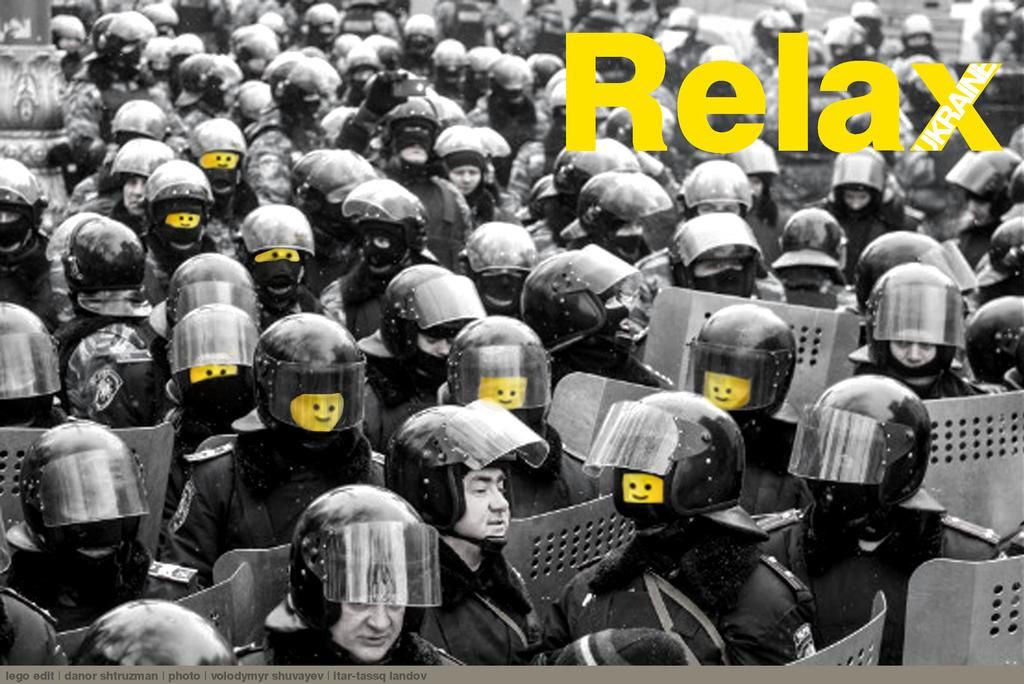helmet: (285, 484, 443, 637), (383, 399, 550, 536), (581, 390, 746, 524), (787, 374, 932, 512), (18, 422, 150, 566), (252, 312, 366, 445), (520, 244, 642, 359), (683, 304, 797, 420), (380, 264, 488, 377), (446, 315, 552, 426), (853, 230, 980, 322), (865, 262, 965, 376), (169, 304, 264, 403), (45, 212, 146, 295), (290, 149, 381, 241), (669, 212, 762, 302), (576, 170, 674, 244), (0, 302, 60, 417), (341, 179, 429, 254), (458, 221, 538, 302), (944, 146, 1023, 221), (242, 204, 315, 282), (964, 295, 1024, 389), (553, 138, 641, 200), (144, 160, 215, 236), (684, 160, 752, 238), (109, 138, 175, 214), (782, 207, 847, 270), (830, 146, 888, 216), (190, 118, 246, 188), (270, 57, 342, 110), (0, 158, 43, 242), (550, 80, 592, 133), (491, 56, 534, 99), (824, 18, 866, 62), (404, 14, 437, 58), (901, 14, 933, 53), (980, 0, 1015, 34)
